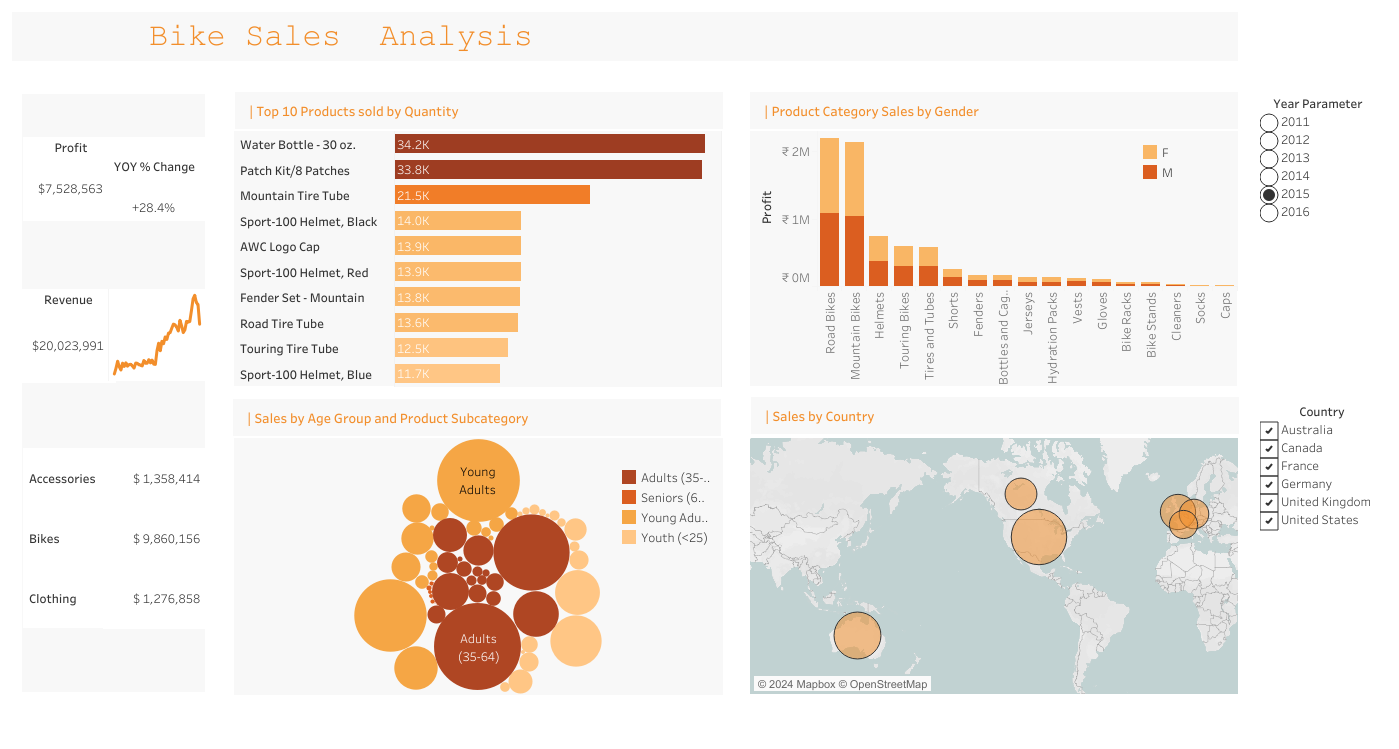

What the dashboard file says about the page in this screenshot:
{"tool":"tableau","page":{"name":"Sales Dashboard","canvas":[1400,750],"ordinal":0},"visuals":[{"type":"title","box":[8,8,1234,57]},{"type":"blank","box":[8,65,1234,677]},{"type":"text","box":[235,92,488,37]},{"type":"text","box":[750,92,488,37]},{"type":"parameter","param":"[Parameters].[Parameter 1]","box":[1260,93,116,178]},{"type":"worksheet","title":"Top 10 Products","mark":"Bar","rows":["Product"],"box":[234.3,130.7,487.4,256]},{"type":"worksheet","title":"Sub Category Bar Chart","mark":"Automatic","rows":["Profit"],"cols":["Sub_Category"],"box":[750,131,488,256]},{"type":"worksheet","title":"Profit Card","mark":"Automatic","cols":["Calculation_296393200800419842"],"box":[23,137,96,83]},{"type":"worksheet","title":"YOY % Change","mark":"Automatic","cols":["Calculation_296393200804970509"],"box":[104,137,101,83]},{"type":"legend","title":"Sub Category Bar Chart","param":"[federated.0raleq90vqcrbm16k65y01ofmbo0].[none:Customer_Gender:nk]","box":[1140,142,77,38]},{"type":"worksheet","title":"Revenue Card","mark":"Automatic","cols":["Calculation_296393200806821902"],"box":[22,289,93,93]},{"type":"worksheet","title":"Revenue Line Chart","mark":"Automatic","rows":["Revenue"],"cols":["Date"],"box":[108,289,97,91]},{"type":"text","box":[751,397,488,37]},{"type":"text","box":[233,399,488,37]},{"type":"filter","title":"Age Group Bubble Chart","param":"[federated.0raleq90vqcrbm16k65y01ofmbo0].[none:Country:nk]","box":[1260,401,124,207]},{"type":"worksheet","title":"Age Group Bubble Chart","mark":"Circle","box":[234,438,488,256]},{"type":"worksheet","title":"Map","mark":"Automatic","box":[750,438,488,256]},{"type":"worksheet","title":"Cost Cards","mark":"Automatic","rows":["Product_Category"],"box":[23,448,182,180]},{"type":"legend","title":"Age Group Bubble Chart","param":"[federated.0raleq90vqcrbm16k65y01ofmbo0].[none:Age_Group:nk]","box":[619.3,467.2,92.6,79.7]}]}

Visuals, with their boxes in screenshot pixels (x1, y1, x2, y2), scaled from the page's 1400x750 canvas onto the 1399x749 screenshot:
title: [8, 8, 1241, 65]
blank: [8, 65, 1241, 741]
text: [235, 92, 722, 129]
text: [749, 92, 1237, 129]
parameter: [1259, 93, 1375, 271]
"Top 10 Products" worksheet (Bar marks): [234, 131, 721, 386]
"Sub Category Bar Chart" worksheet: [749, 131, 1237, 386]
"Profit Card" worksheet: [23, 137, 119, 220]
"YOY % Change" worksheet: [104, 137, 205, 220]
"Sub Category Bar Chart" legend: [1139, 142, 1216, 180]
"Revenue Card" worksheet: [22, 289, 115, 381]
"Revenue Line Chart" worksheet: [108, 289, 205, 379]
text: [750, 396, 1238, 433]
text: [233, 398, 720, 435]
"Age Group Bubble Chart" filter: [1259, 400, 1383, 607]
"Age Group Bubble Chart" worksheet (Circle marks): [234, 437, 721, 693]
"Map" worksheet: [749, 437, 1237, 693]
"Cost Cards" worksheet: [23, 447, 205, 627]
"Age Group Bubble Chart" legend: [619, 467, 711, 546]
